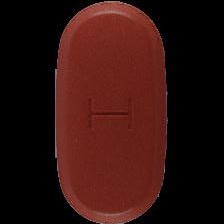63187-312: (0, 0, 224, 224)
